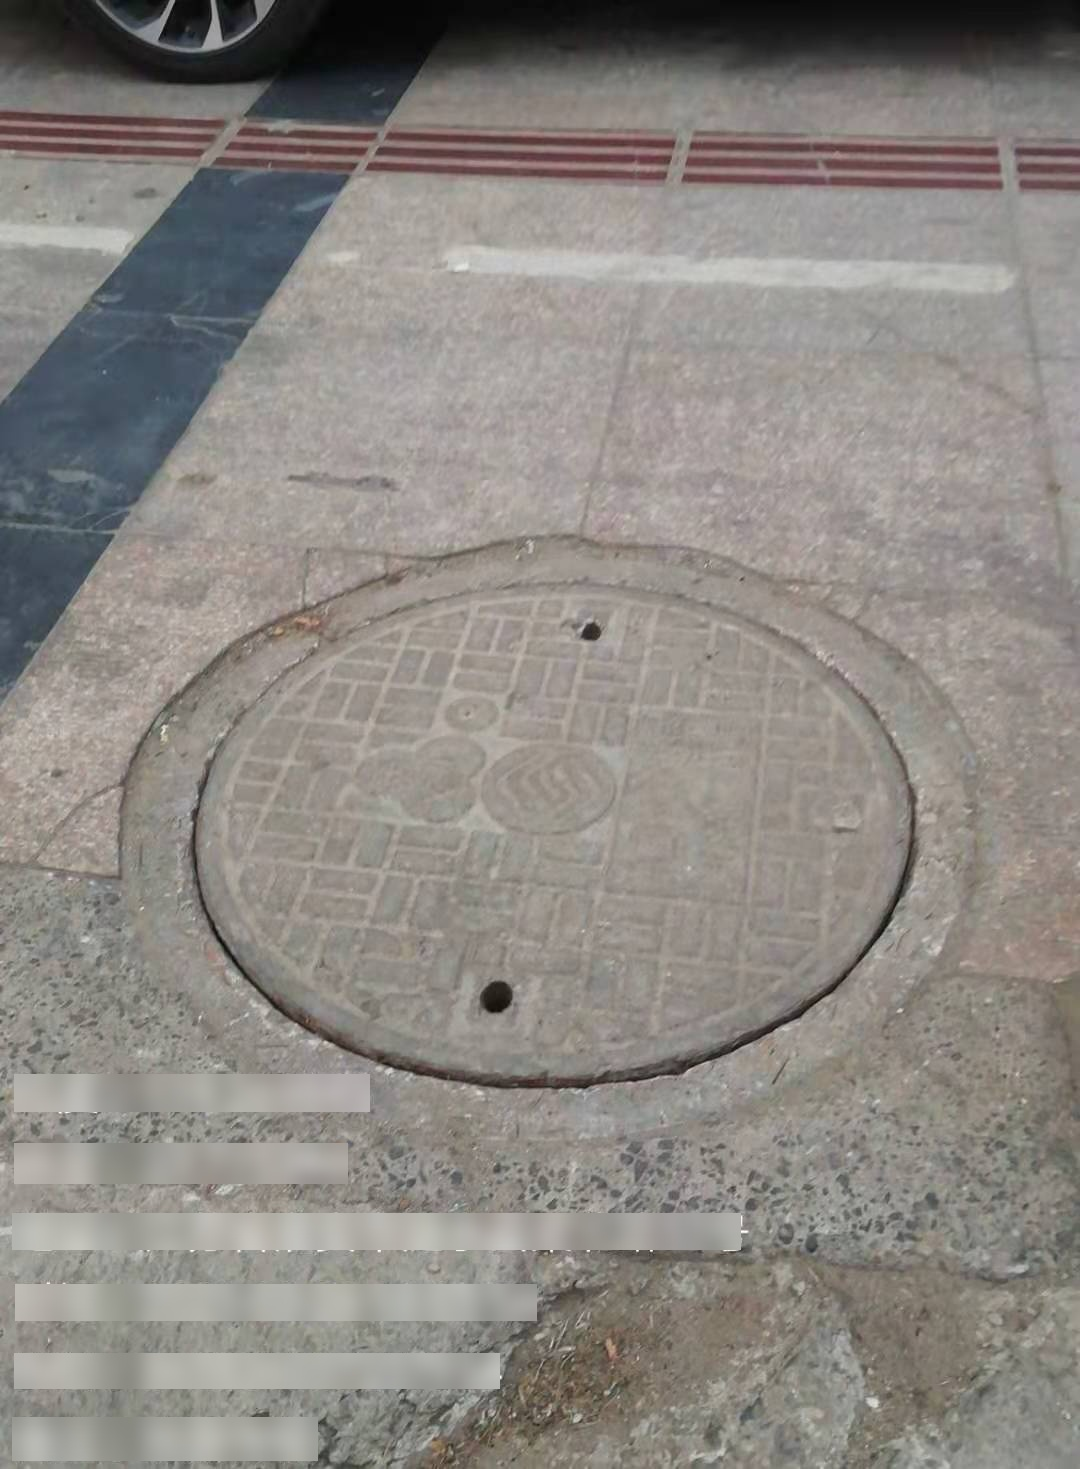well: (138, 549, 980, 1097)
